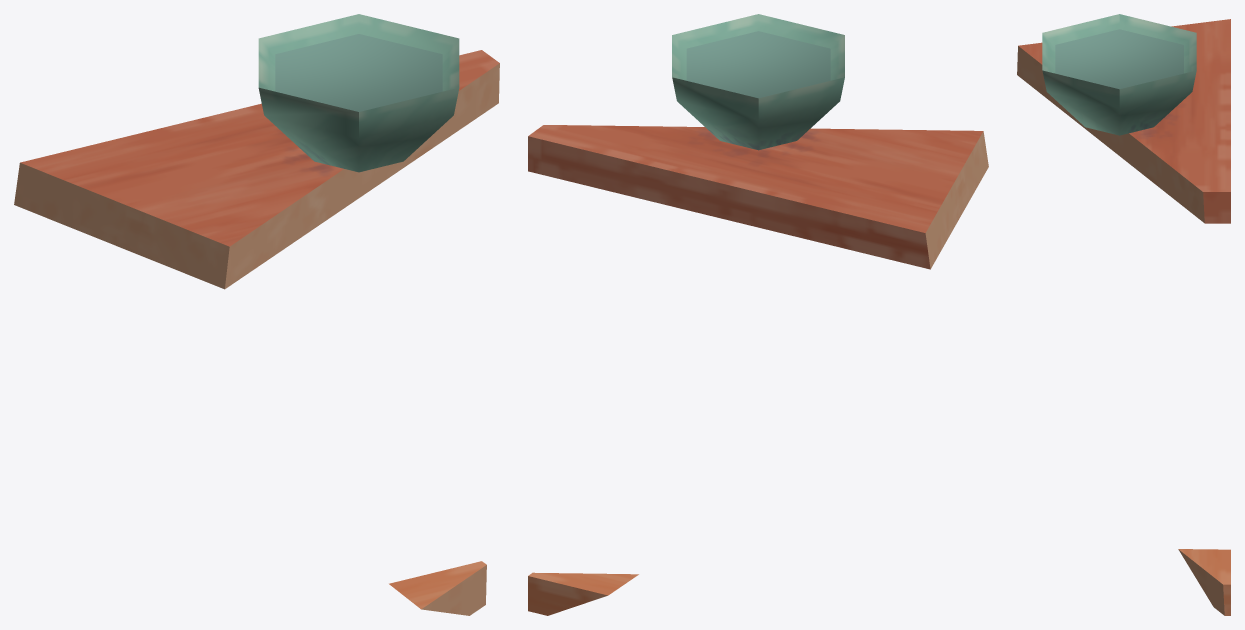
The model's file is shelf_s03.fbx.
The picture shows the model from 3 angles, left to right: view 1: azimuth 30°, elevation 25°; view 2: azimuth 150°, elevation 25°; view 3: azimuth 270°, elevation 25°; orthographic projection. The views are drawn at different scales.
Visible parts, largest first — view 1: shelf_s03; view 2: shelf_s03; view 3: shelf_s03.
Part boxes in pixels (x1=…): shelf_s03: x1=14, y1=14, x2=499, y2=615; shelf_s03: x1=528, y1=14, x2=988, y2=615; shelf_s03: x1=1017, y1=14, x2=1230, y2=615.
Bounding box in the file's own units: 1.68 × 2.19 × 0.8644.
